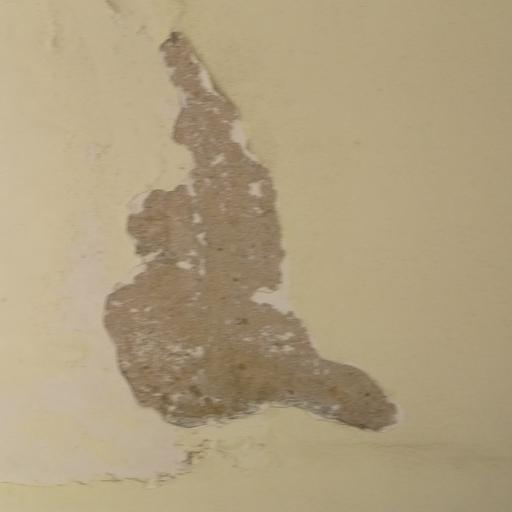peeling: (86, 25, 422, 461)
